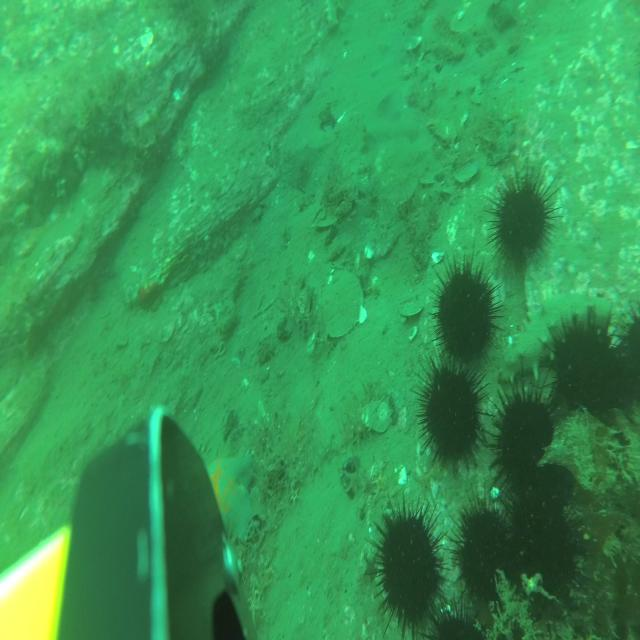echinus: (365, 497, 445, 640), (502, 479, 582, 615), (415, 351, 492, 475), (489, 364, 556, 501), (486, 162, 562, 272), (433, 250, 502, 371), (546, 308, 612, 431), (451, 486, 512, 609), (610, 306, 640, 416), (420, 592, 484, 640)
holothurian: (499, 292, 617, 385), (324, 0, 339, 28)
scallop: (323, 272, 364, 343), (361, 400, 394, 436), (399, 298, 424, 318)
starfish: (191, 450, 256, 562)
